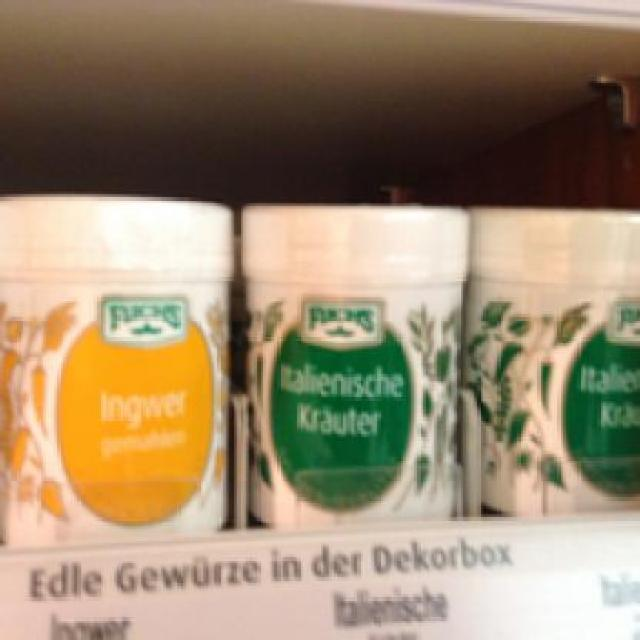Spices: (0, 188, 237, 538), (237, 193, 472, 530), (462, 197, 638, 512)
